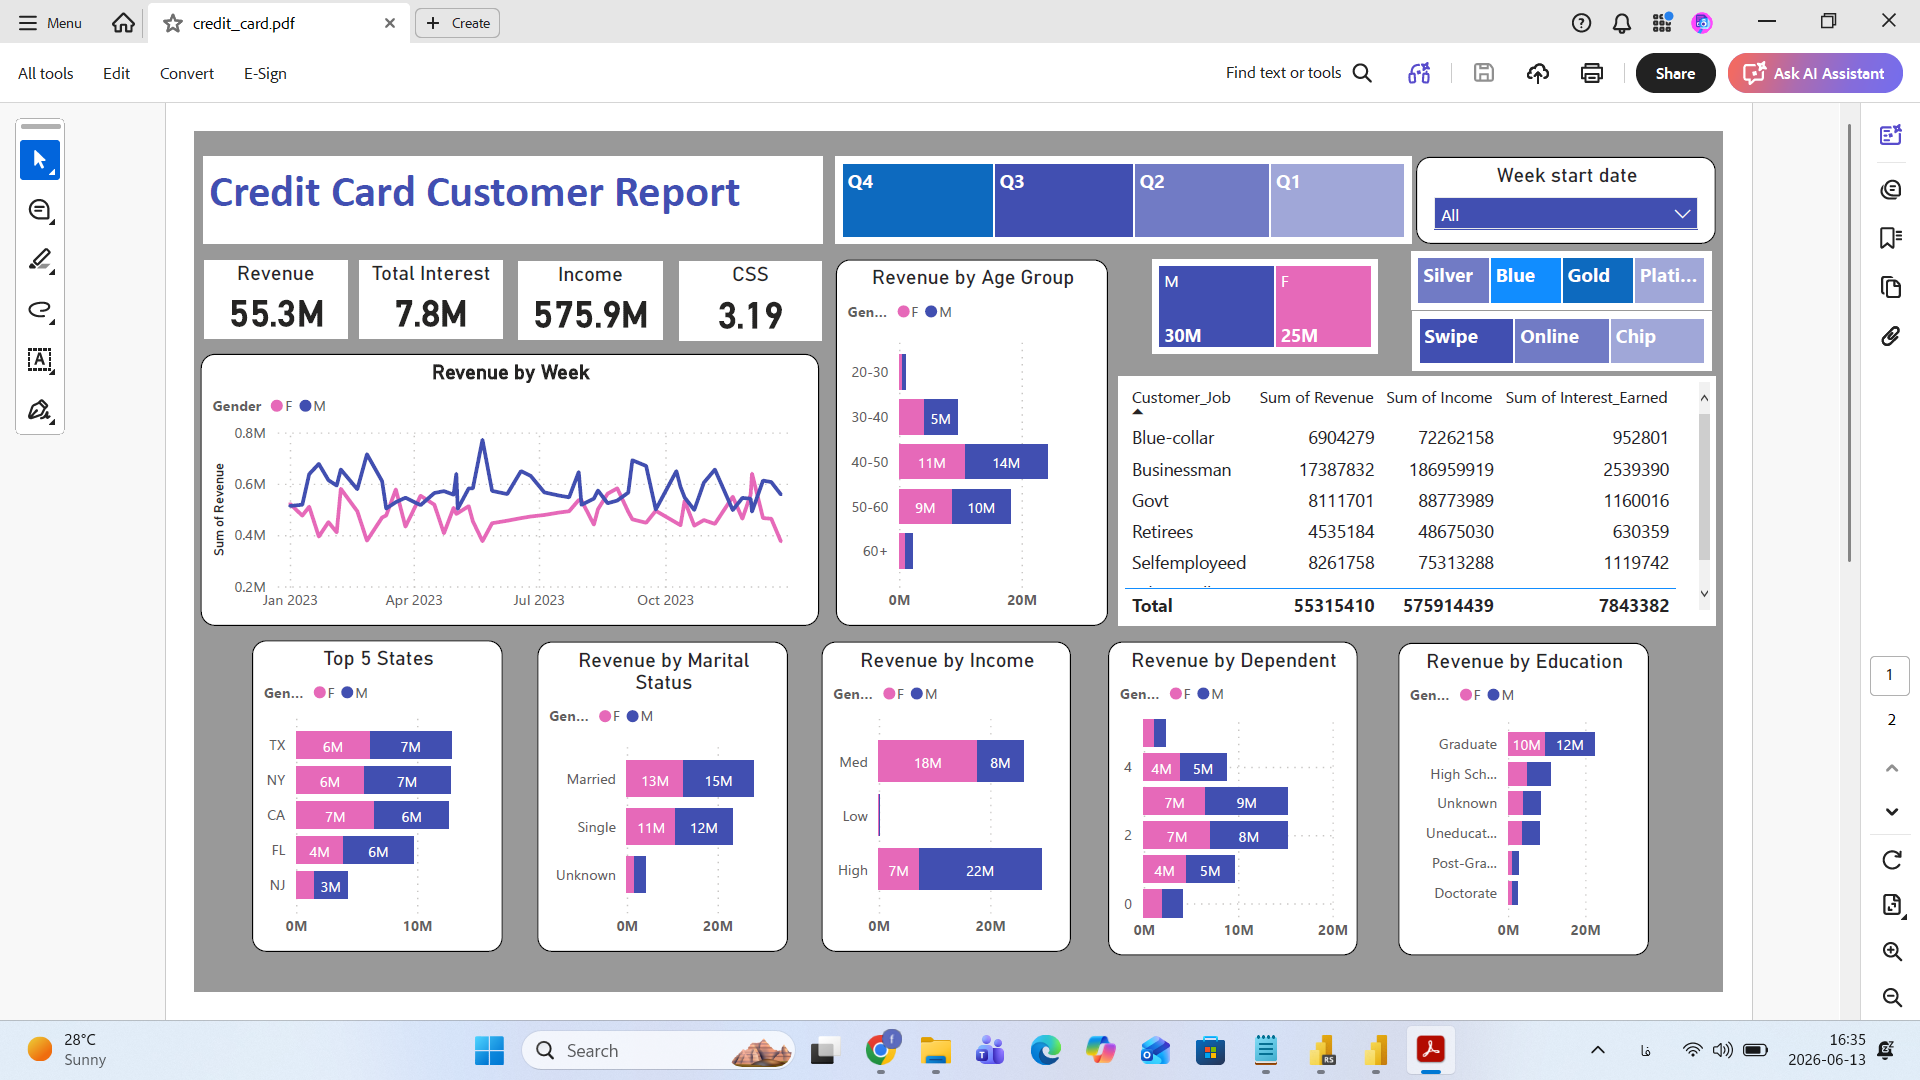

What the dashboard file says about the page in this screenshot:
{"tool":"powerbi","page":{"name":"CC Customer","canvas":[1280,720],"ordinal":0},"visuals":[{"type":"textbox","box":[7.2,20.5,518.6,73.6],"z":0},{"type":"tableEx","fields":{"Values":["customer.Customer_Job","Sum(credit_card (4).Revenue)","Sum(customer.Income)","Sum(credit_card (4).Interest_Earned)"]},"box":[774.3,205,499.3,208.6],"z":2000},{"type":"card","title":"Revenue","fields":{"Values":["Sum(credit_card (4).Revenue)"]},"box":[7.7,107.6,120,65],"z":3000},{"type":"card","title":"Income","fields":{"Values":["Sum(customer.Income)"]},"box":[271.4,109.1,120.8,64.7],"z":4000},{"type":"card","title":"Total Interest","fields":{"Values":["Sum(credit_card (4).Interest_Earned)"]},"box":[138.4,107.9,119.6,64.7],"z":5000},{"type":"card","title":"CSS","fields":{"Values":["Avg(customer.Cust_Satisfaction_Score)"]},"box":[405.7,109.1,119.6,65.9],"z":6000},{"type":"slicer","title":"Week start date","fields":{"Values":["credit_card (4).date_format_week_start_date"]},"box":[1022.7,20.5,250.9,73.6],"z":7000},{"type":"treemap","fields":{"Group":["credit_card (4).Qtr"],"Values":["Avg(credit_card (4).Client_Num)"]},"box":[536.7,20.5,482.4,73.6],"z":8000},{"type":"treemap","fields":{"Group":["credit_card (4).Card_Category"],"Values":["Avg(credit_card (4).Client_Num)"]},"box":[1019.1,99.9,250.9,49.4],"z":9000},{"type":"lineChart","title":"Revenue by Week","fields":{"Y":["Sum(credit_card (4).Revenue)"],"Series":["customer.Gender"],"Category":["credit_card (4).date_format_week_start_date.Variation.Date Hierarchy.Year","credit_card (4).date_format_week_start_date.Variation.Date Hierarchy.Month","credit_card (4).date_format_week_start_date.Variation.Date Hierarchy.Day"]},"box":[4.8,185.7,518.6,227.9],"z":10000},{"type":"treemap","fields":{"Values":["Sum(credit_card (4).Revenue)"],"Group":["customer.Gender"]},"box":[802,107.3,189.3,78.4],"z":11000},{"type":"barChart","title":"Revenue by Age Group","fields":{"Category":["customer.agegroup"],"Series":["customer.Gender"],"Y":["Sum(credit_card (4).Revenue)"]},"box":[536.7,107.3,227.9,306.3],"z":12000},{"type":"barChart","title":"Revenue by Dependent","fields":{"Y":["Sum(credit_card (4).Revenue)"],"Category":["customer.Dependent_Count"],"Series":["customer.Gender"]},"box":[764.6,426.9,209.8,262.9],"z":13000},{"type":"barChart","title":"Revenue by Education","fields":{"Y":["Sum(credit_card (4).Revenue)"],"Category":["customer.Education_Level"],"Series":["customer.Gender"]},"box":[1008.2,428.1,209.8,261.7],"z":14000},{"type":"barChart","title":"Top 5 States","fields":{"Y":["Sum(credit_card (4).Revenue)"],"Category":["customer.state_cd"],"Series":["customer.Gender"]},"box":[48.2,425.7,209.8,261.7],"z":15000},{"type":"barChart","title":"Revenue by Marital Status","fields":{"Y":["Sum(credit_card (4).Revenue)"],"Category":["customer.Marital_Status"],"Series":["customer.Gender"]},"box":[287,426.9,209.8,260.5],"z":16000},{"type":"treemap","fields":{"Group":["credit_card (4).Use Chip"],"Values":["Avg(credit_card (4).Client_Num)"]},"box":[1020.3,150.5,249.6,49.4],"z":17000},{"type":"barChart","title":"Revenue by Income","fields":{"Y":["Sum(credit_card (4).Revenue)"],"Series":["customer.Gender"],"Category":["customer.income_group"]},"box":[524.6,426.9,209.8,260.5],"z":17001}]}

Visuals, with their boxes on the page's 1280x720 design canvas (x1, y1, x2, y2). These are canvas units, not pixel positions in the 1920x1080 screenshot, which may show the page scaled, cropped or inside an application window:
textbox: left=7, top=20, right=526, bottom=94
tableEx - customer.Customer_Job x Sum(credit_card (4).Revenue): left=774, top=205, right=1274, bottom=414
"Revenue" card: left=8, top=108, right=128, bottom=173
"Income" card: left=271, top=109, right=392, bottom=174
"Total Interest" card: left=138, top=108, right=258, bottom=173
"CSS" card: left=406, top=109, right=525, bottom=175
"Week start date" slicer: left=1023, top=20, right=1274, bottom=94
treemap - credit_card (4).Qtr x Avg(credit_card (4).Client_Num): left=537, top=20, right=1019, bottom=94
treemap - credit_card (4).Card_Category x Avg(credit_card (4).Client_Num): left=1019, top=100, right=1270, bottom=149
"Revenue by Week" lineChart: left=5, top=186, right=523, bottom=414
treemap - Sum(credit_card (4).Revenue) x customer.Gender: left=802, top=107, right=991, bottom=186
"Revenue by Age Group" barChart: left=537, top=107, right=765, bottom=414
"Revenue by Dependent" barChart: left=765, top=427, right=974, bottom=690
"Revenue by Education" barChart: left=1008, top=428, right=1218, bottom=690
"Top 5 States" barChart: left=48, top=426, right=258, bottom=687
"Revenue by Marital Status" barChart: left=287, top=427, right=497, bottom=687
treemap - credit_card (4).Use Chip x Avg(credit_card (4).Client_Num): left=1020, top=150, right=1270, bottom=200
"Revenue by Income" barChart: left=525, top=427, right=734, bottom=687
